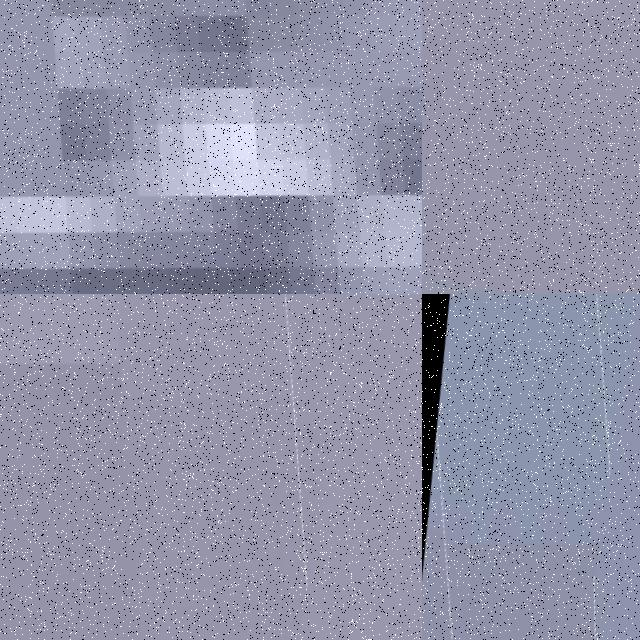drone: (0, 294, 360, 640), (0, 0, 422, 294), (422, 294, 640, 640)
